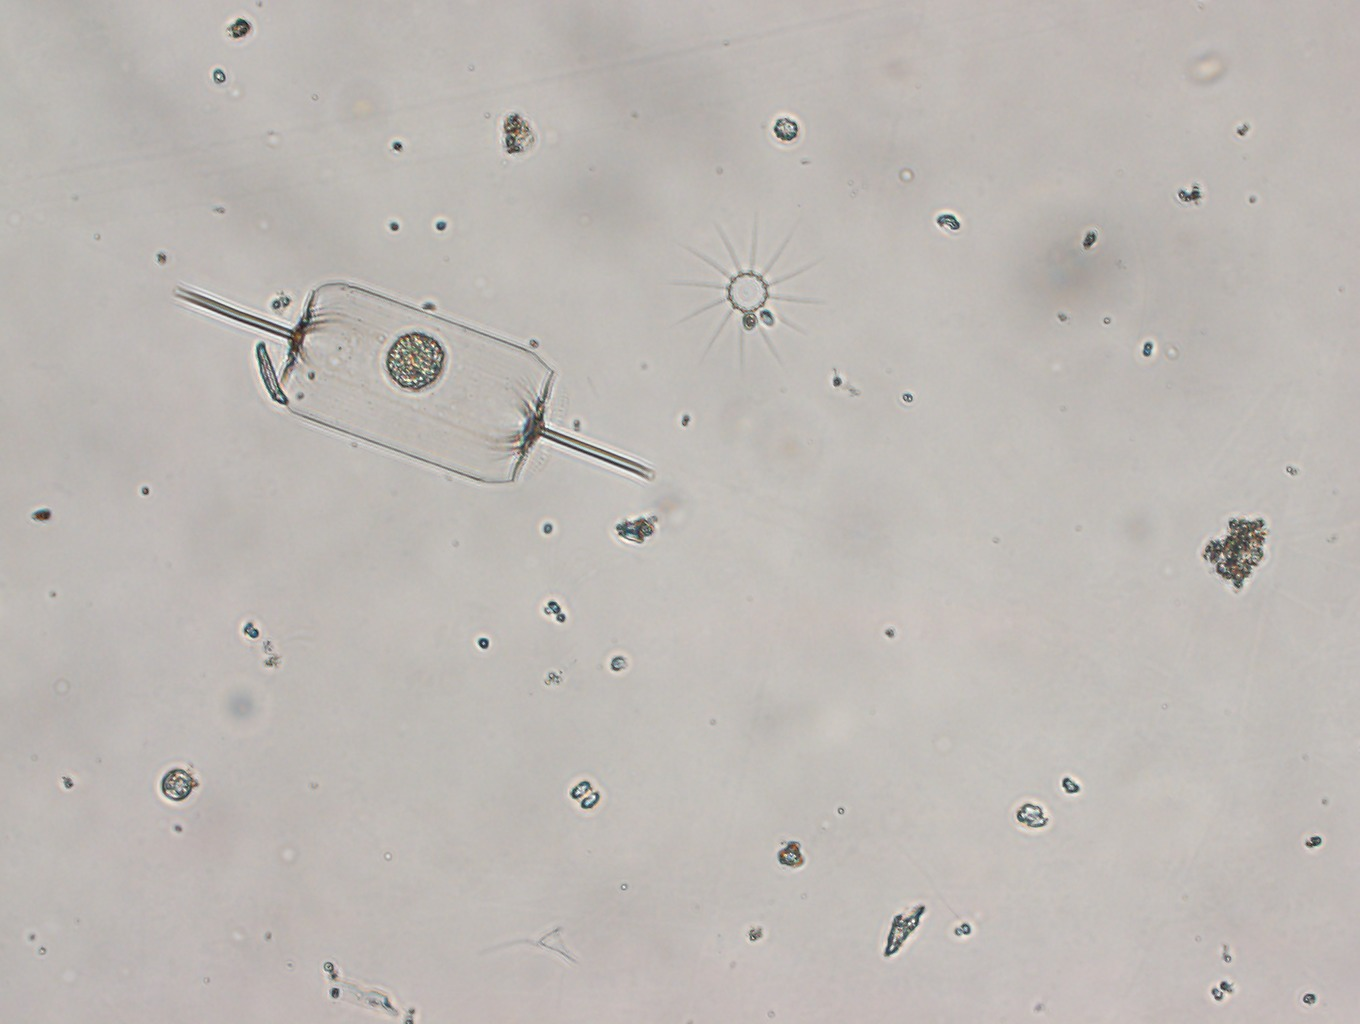bacteriastrum: (657, 203, 842, 373)
ditylum: (170, 281, 659, 487)
